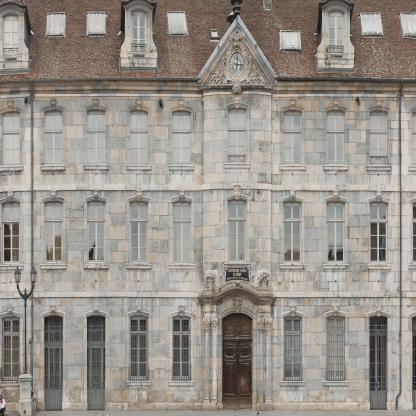Building Outline: (0, 0, 416, 411)
Cornice: (232, 183, 241, 200), (7, 100, 14, 112), (136, 305, 142, 317), (93, 305, 99, 317), (136, 99, 142, 111), (333, 190, 339, 202), (234, 97, 240, 109), (333, 99, 339, 110), (333, 306, 339, 317), (93, 99, 99, 110), (376, 191, 382, 202), (50, 99, 56, 110), (136, 190, 142, 201), (93, 190, 99, 201), (179, 99, 184, 111), (376, 99, 381, 111), (8, 306, 13, 318), (290, 190, 295, 202), (179, 190, 184, 202), (51, 190, 56, 202), (290, 99, 295, 110), (376, 306, 381, 317), (290, 306, 295, 317), (179, 306, 184, 317), (51, 306, 56, 317), (8, 191, 13, 202)
Deco: (206, 32, 268, 94), (225, 268, 249, 282), (257, 270, 270, 288), (205, 270, 217, 288), (233, 298, 242, 314)
Door: (222, 312, 253, 410)
Facade: (0, 0, 416, 412)
Floor: (0, 191, 416, 291), (0, 93, 416, 185)
Floor Slab: (0, 87, 416, 93), (0, 185, 416, 191), (0, 292, 416, 298)
Ground Floor: (0, 297, 416, 412)
Molding: (0, 80, 416, 95), (198, 287, 276, 306)
Pillar: (210, 318, 218, 403), (257, 318, 264, 403), (265, 318, 272, 403), (203, 318, 210, 403)
Roof: (0, 0, 416, 84)
Sill: (224, 261, 251, 267), (224, 163, 251, 169), (126, 380, 152, 386), (169, 381, 195, 387), (84, 164, 110, 170), (126, 164, 152, 170), (169, 165, 195, 171), (169, 263, 195, 269), (41, 263, 66, 269), (0, 264, 25, 270), (279, 381, 306, 386), (322, 381, 349, 386), (279, 165, 306, 170), (322, 165, 349, 170), (279, 264, 306, 269), (322, 264, 349, 269), (366, 264, 392, 269), (84, 263, 110, 268), (366, 166, 392, 171), (126, 263, 152, 268), (0, 382, 25, 387), (41, 165, 66, 170), (0, 166, 24, 171), (133, 52, 145, 56), (331, 53, 343, 56), (5, 57, 17, 59)
Top Floor: (0, 0, 416, 86)
Window: (44, 315, 63, 411), (87, 315, 105, 411), (370, 315, 388, 410), (283, 200, 302, 263), (87, 200, 106, 263), (44, 200, 63, 263), (130, 315, 148, 380), (173, 315, 191, 380), (2, 317, 20, 381), (284, 316, 302, 380), (327, 316, 345, 380), (370, 201, 388, 264), (228, 198, 246, 261), (130, 200, 148, 263), (173, 200, 191, 263), (327, 200, 345, 263), (2, 201, 20, 264), (172, 109, 191, 165), (283, 110, 302, 165), (370, 110, 388, 166), (130, 109, 148, 165), (228, 107, 246, 163), (327, 109, 345, 165), (87, 109, 105, 164), (44, 110, 62, 165), (2, 111, 20, 165), (328, 9, 345, 53), (131, 9, 147, 52), (3, 13, 18, 57), (361, 13, 382, 35), (168, 12, 187, 34), (47, 13, 64, 34), (88, 13, 105, 34), (401, 13, 416, 36), (281, 31, 300, 49), (211, 31, 217, 37)
